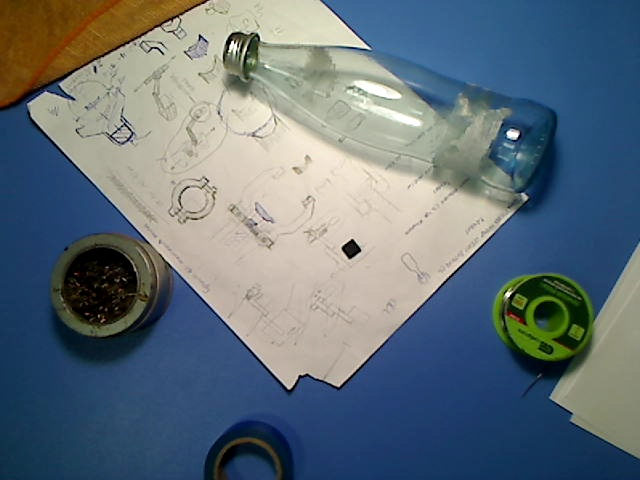bottle: (220, 29, 559, 196)
